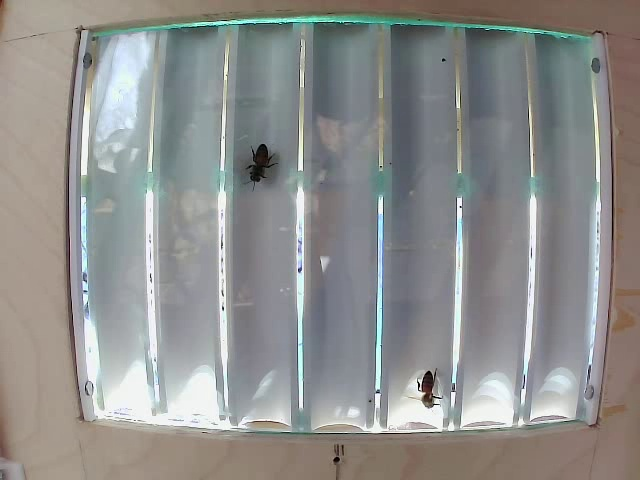bee: (240, 130, 287, 205), (413, 366, 459, 413)
